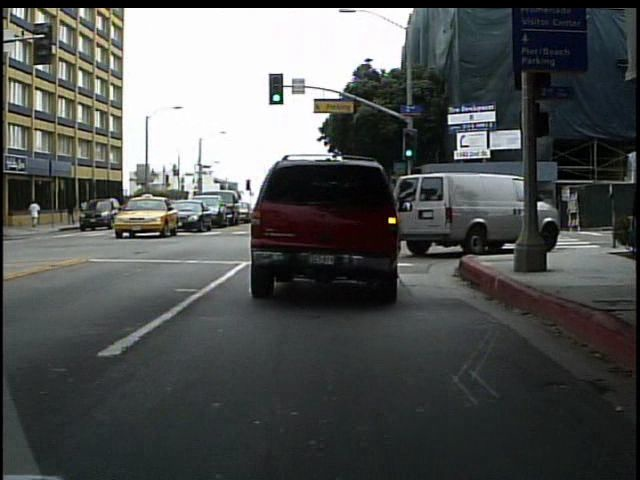person: (488, 175, 510, 236), (29, 196, 44, 230)
